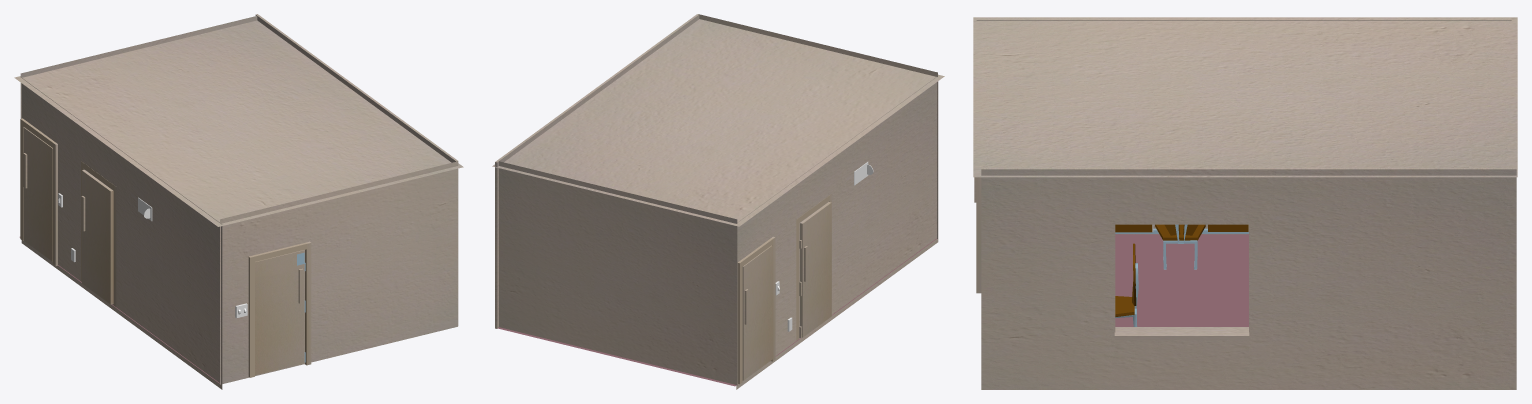
3 renders of one model, left to right at view 1: azimuth 30°, elevation 25°; view 2: azimuth 150°, elevation 25°; view 3: azimuth 270°, elevation 25°, orthographic. The views are drawn at different scales.
Visible parts, largest first — view 1: nurbsPlane2, nurbsPlane4, nurbsPlane3, pCube1, pCube6, pCube7, pCube10, pCube12, nurbsPlane1, pCube11; view 2: nurbsPlane2, nurbsPlane1, nurbsPlane3, pCube6, pCube7, pCube12, nurbsPlane4, pCube11, nurbsPlane5; view 3: nurbsPlane2, nurbsPlane5, pCube51, pCube10, pCube51_wood_0.002, nurbsPlane3.
Part boxes in pixels (<box>): nurbsPlane2: <box>14,14,463,325</box>; nurbsPlane4: <box>220,161,457,384</box>; nurbsPlane3: <box>21,78,222,389</box>; pCube1: <box>255,250,305,375</box>; pCube6: <box>81,169,113,304</box>; pCube7: <box>23,127,52,261</box>; pCube10: <box>248,241,311,377</box>; pCube12: <box>20,118,57,265</box>; nurbsPlane1: <box>20,16,257,118</box>; pCube11: <box>81,161,116,307</box>; nurbsPlane2: <box>492,14,944,328</box>; nurbsPlane1: <box>499,161,737,385</box>; nurbsPlane3: <box>736,77,938,389</box>; pCube6: <box>799,202,831,337</box>; pCube7: <box>742,245,772,380</box>; pCube12: <box>737,236,775,384</box>; nurbsPlane4: <box>698,14,937,238</box>; pCube11: <box>796,194,831,340</box>; nurbsPlane5: <box>497,238,936,386</box>; nurbsPlane2: <box>973,17,1517,389</box>; nurbsPlane5: <box>1115,234,1248,326</box>; pCube51: <box>1115,243,1138,326</box>; pCube10: <box>976,177,981,293</box>; pCube51_wood_0.002: <box>1155,224,1205,240</box>; nurbsPlane3: <box>976,20,1511,234</box>.
Size of the model in its own units: 22.73 by 14.75 by 32.15.
Materials: 29 (2 with a texture image).
